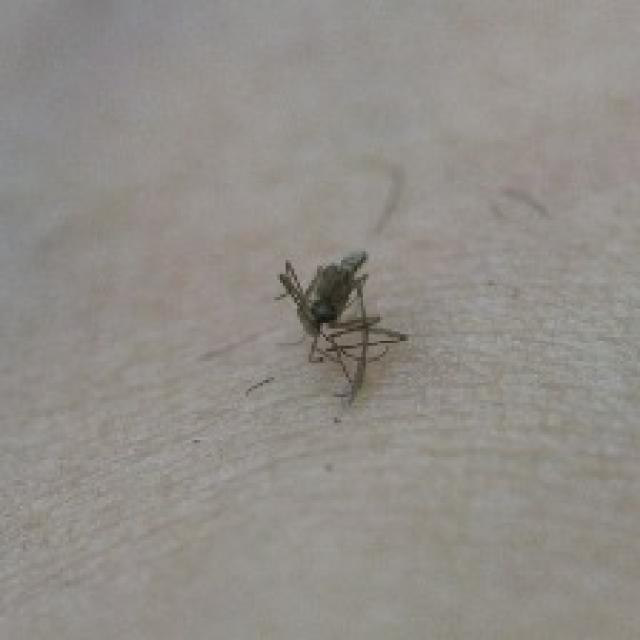culex: (254, 218, 432, 417)
